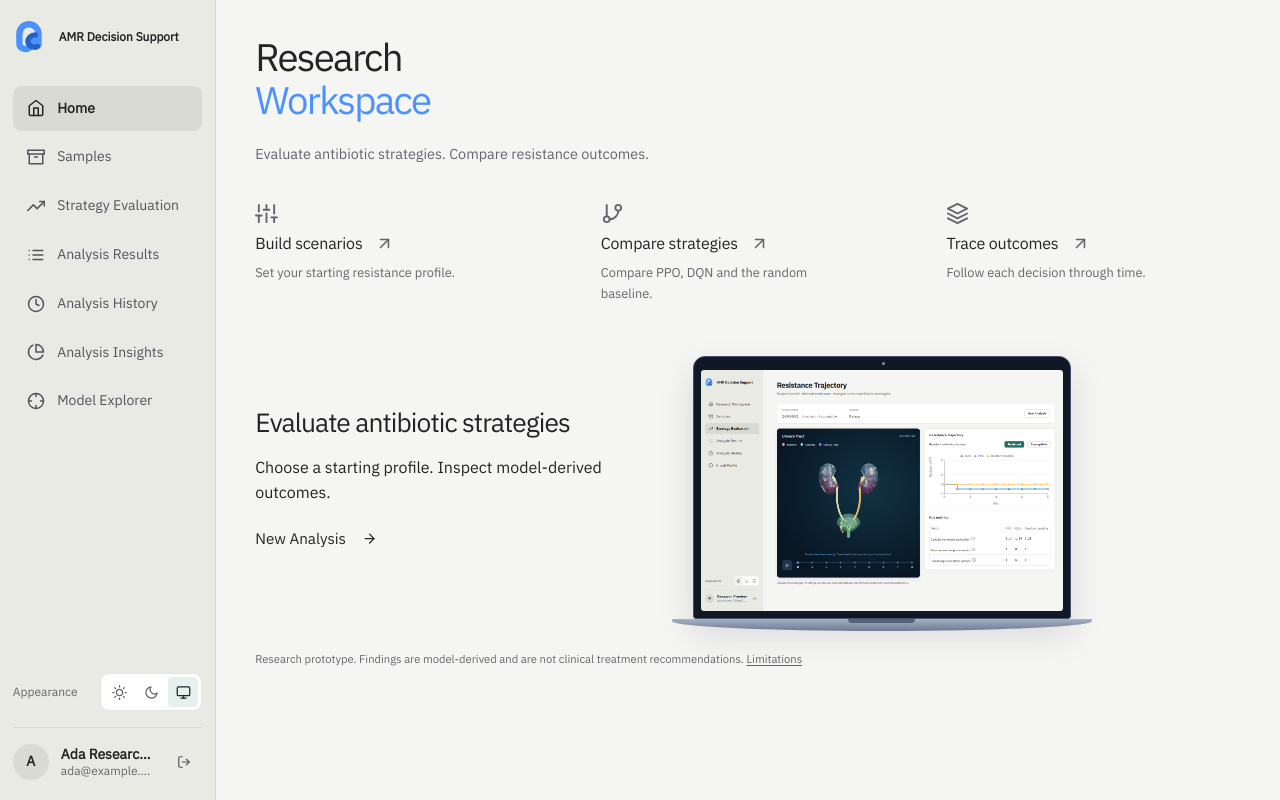
Test: email and password authentication › signs out, returns to the landing page, and forgets the user
This screenshot has width=1280, height=800.
Click the button named "Sign out": click(184, 762) [166,744,202,780]
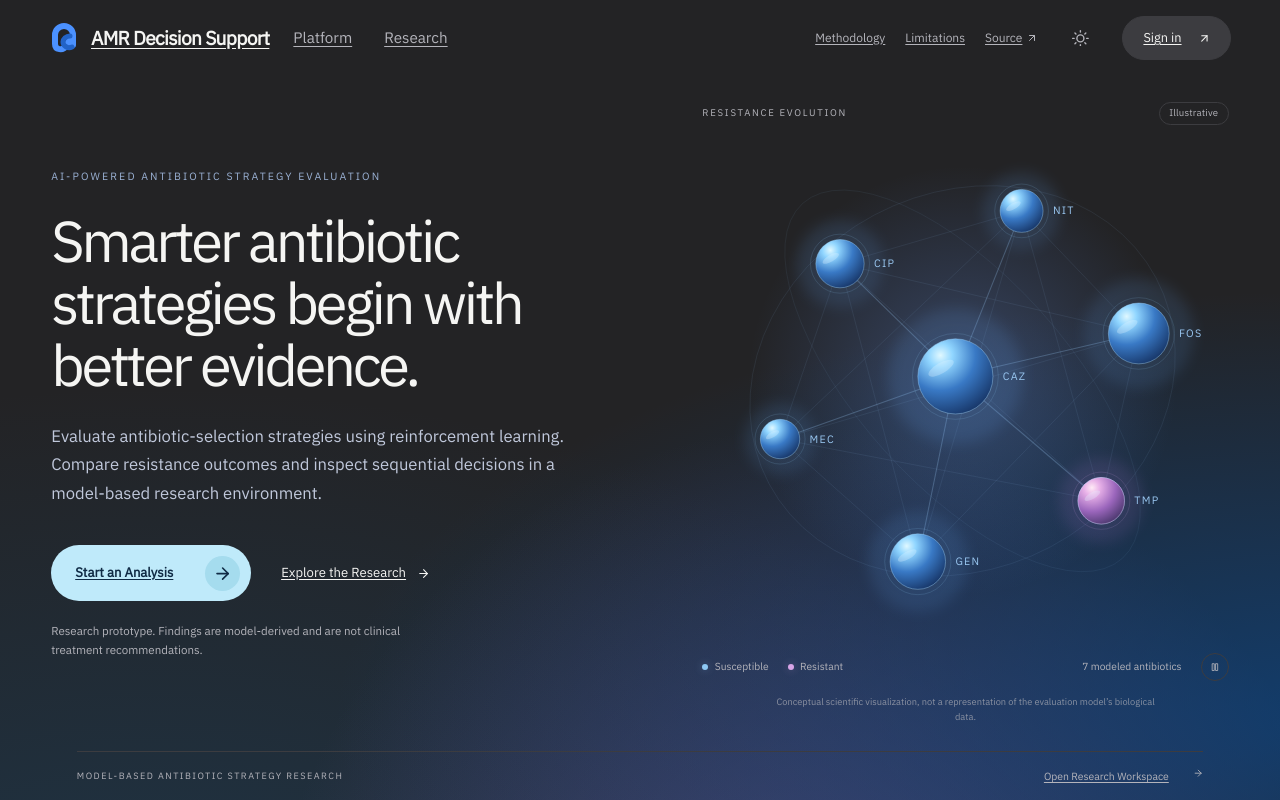
Check: the text "Ada Researcher" is gone
Check: the link "Sign in" is shown, box [1122,16,1231,60]
